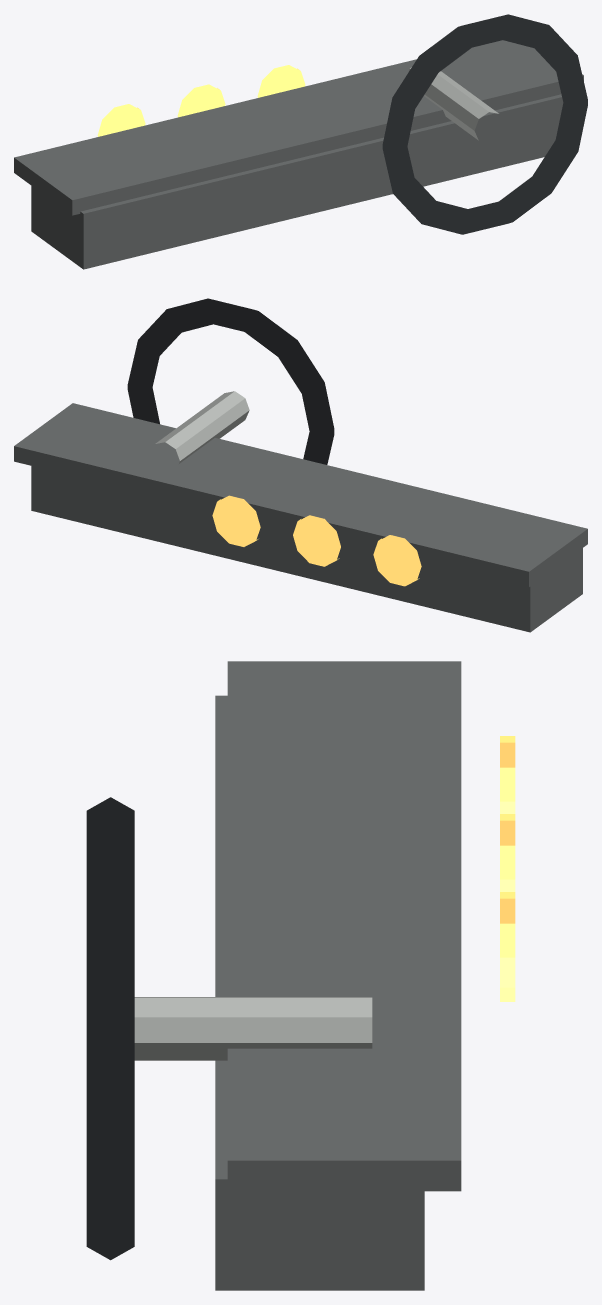
Rendered from rv_cockpit.gltf.
3 renders of one model, top to bottom at view 1: azimuth 30°, elevation 25°; view 2: azimuth 150°, elevation 25°; view 3: azimuth 270°, elevation 25°, orthographic. The views are drawn at different scales.
Visible parts, largest first — view 1: rv_cockpit; view 2: rv_cockpit; view 3: rv_cockpit.
Part boxes in pixels (x1,y1,x2,y2): rv_cockpit: (14,14,587,269); rv_cockpit: (14,298,587,632); rv_cockpit: (86,661,515,1290).
Bounding box in the file's own units: 1.92 × 0.7507 × 0.6965.
